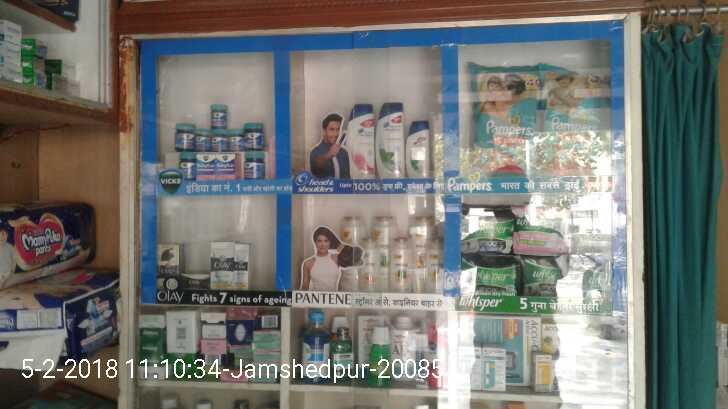vicks: (173, 101, 264, 187)
